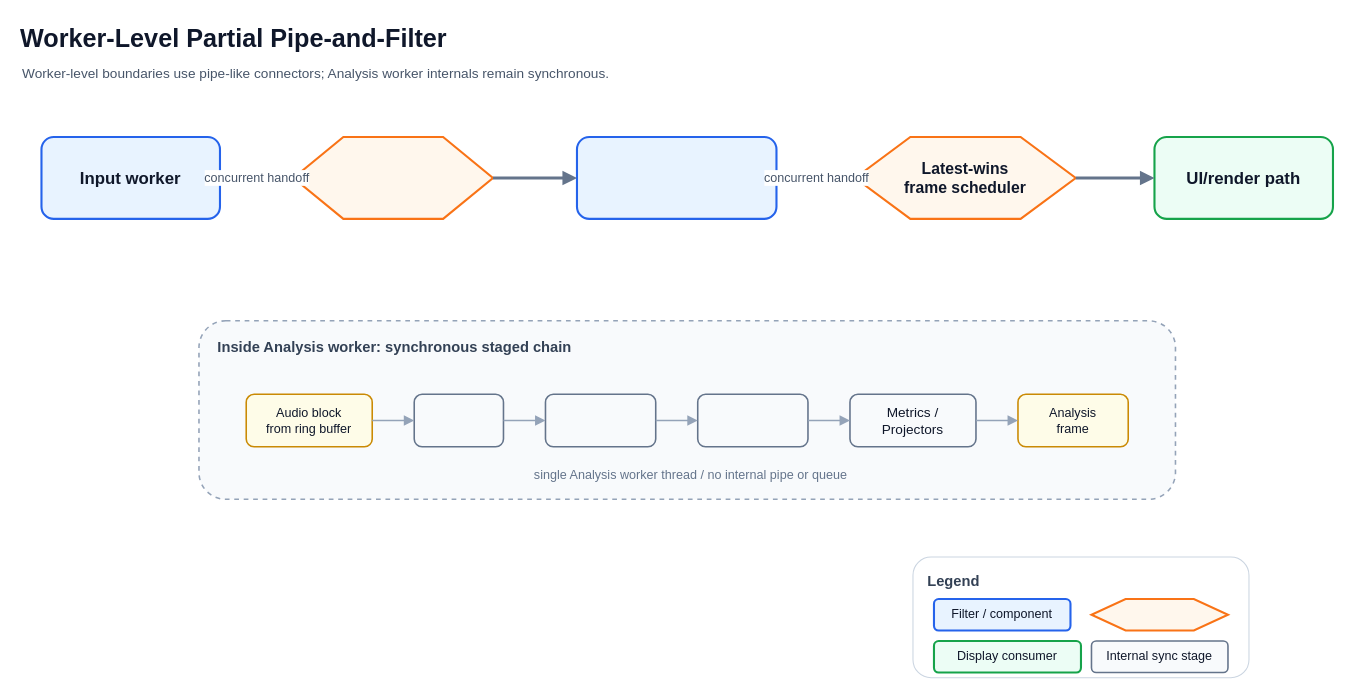
Image size: 1351x696. Some labels were removed from this diagram. Each missing label, with the centre of its shape:
"Analysis worker" goes at (x=676, y=177).
"Bounded ring buffer" goes at (x=393, y=177).
"Detector" goes at (x=752, y=420).
"Envelope" goes at (x=600, y=420).
"HPF" goes at (x=458, y=420).
"Pipe / connector" goes at (x=1159, y=614).
